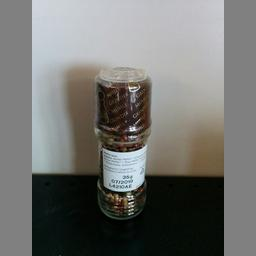spices: (92, 66, 150, 220)
